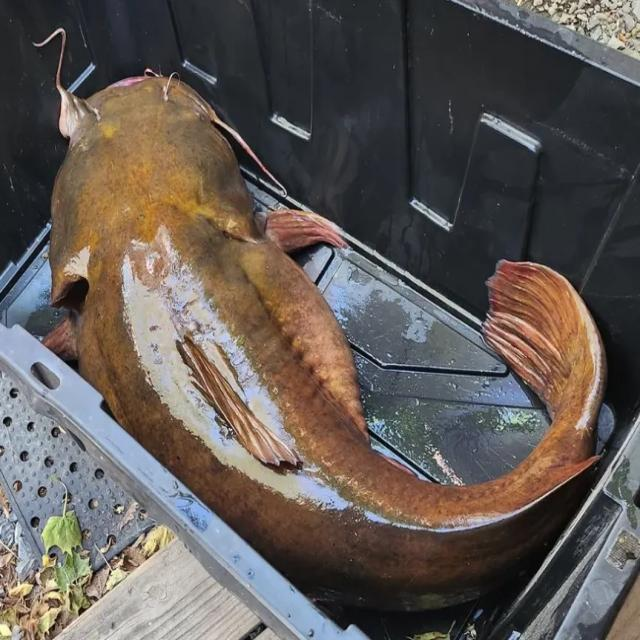Catfish - Flathead: (45, 74, 606, 608)
